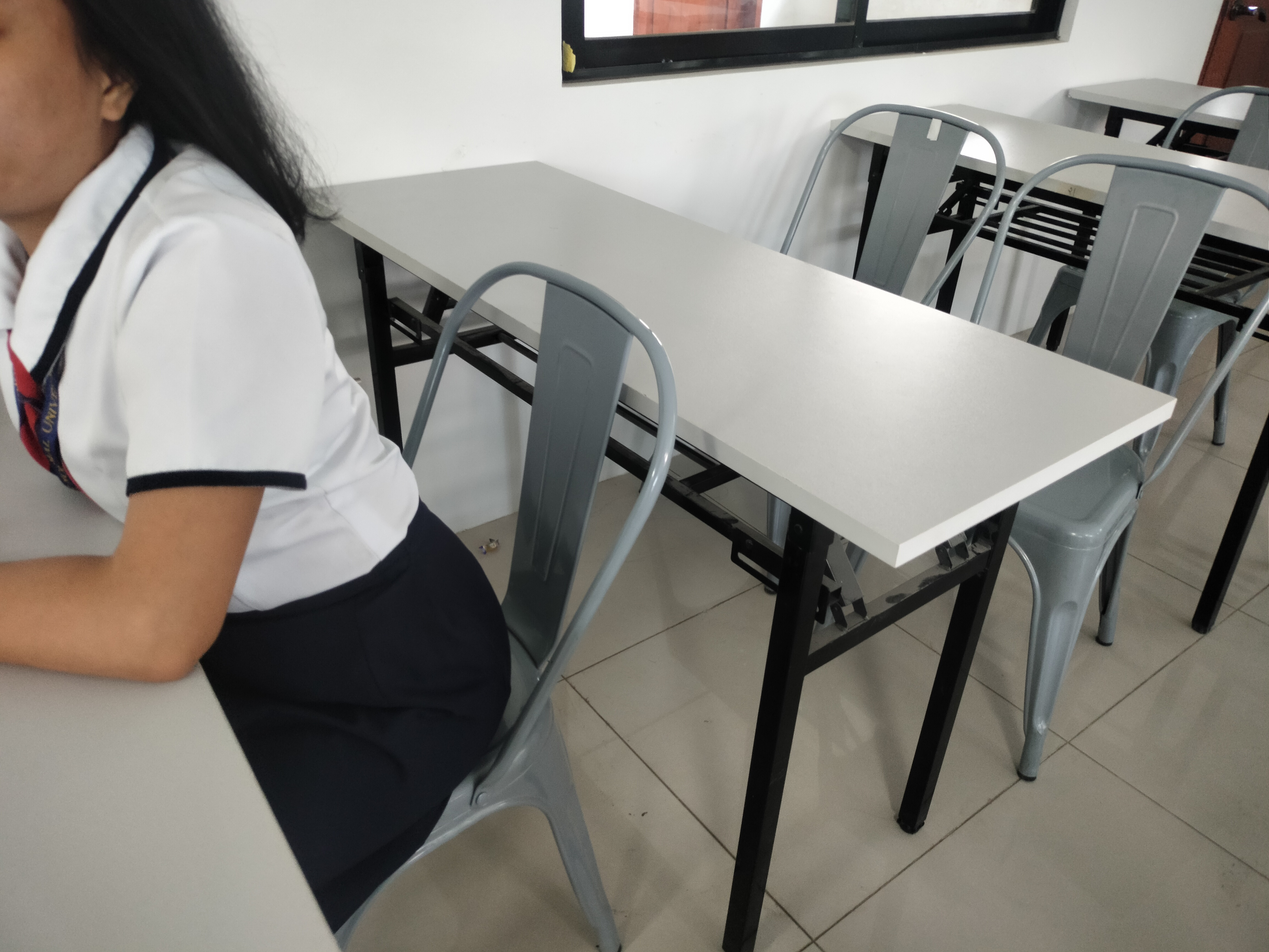with-student: (0, 0, 633, 952)
